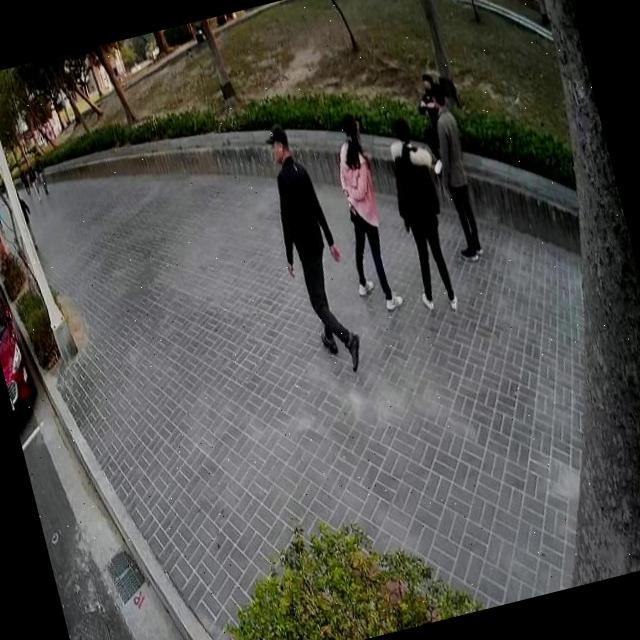person: (250, 110, 372, 384), (373, 110, 472, 320), (314, 104, 409, 318), (413, 74, 493, 266), (406, 68, 456, 174), (14, 184, 42, 253), (24, 154, 46, 202), (32, 150, 52, 196), (16, 158, 34, 199), (0, 194, 6, 239)
